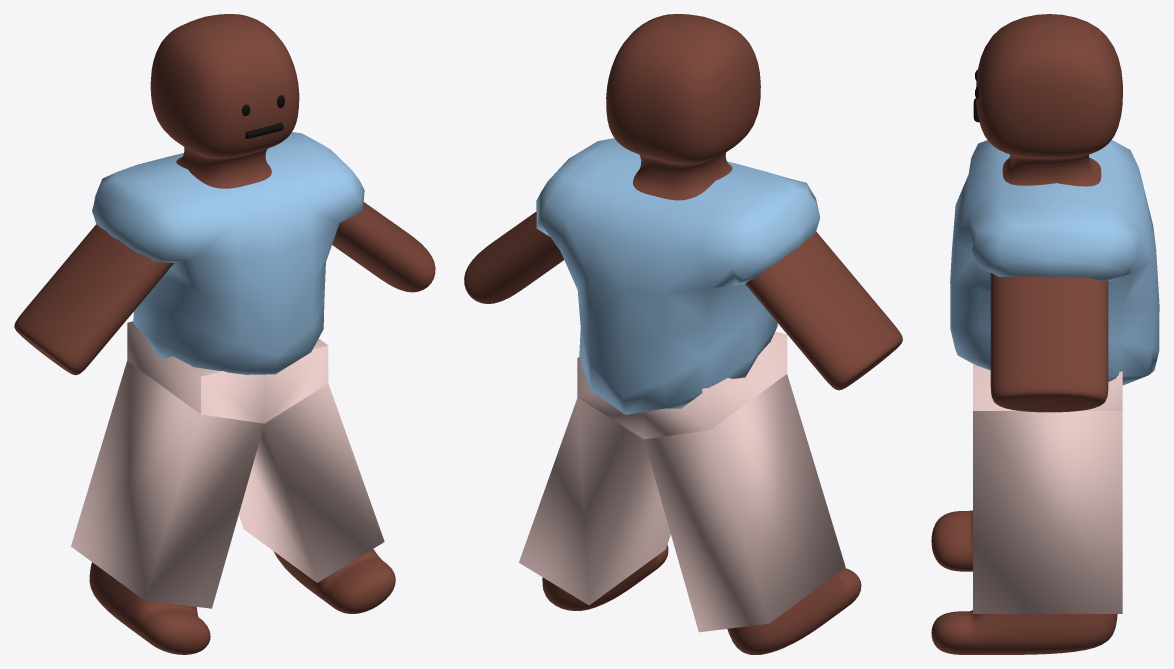
Rendered from npc1.fbx.
3 views of the same model, side by side, from view 1: azimuth 30°, elevation 25°; view 2: azimuth 150°, elevation 25°; view 3: azimuth 270°, elevation 25° (orthographic). The views are drawn at different scales.
Visible parts, largest first — view 1: Cube.002, Cube, Cube.001; view 2: Cube.002, Cube.001, Cube; view 3: Cube, Cube.002, Cube.001.
Part boxes in pixels (box(x1,y1,x2,y2)): Cube.002: box(71, 321, 384, 608); Cube: box(14, 14, 435, 654); Cube.001: box(92, 132, 364, 374); Cube.002: box(519, 331, 845, 632); Cube.001: box(536, 138, 820, 414); Cube: box(464, 14, 902, 654); Cube: box(931, 14, 1122, 654); Cube.002: box(973, 363, 1122, 613); Cube.001: box(950, 140, 1159, 385).
Size of the model in its own units: 612 by 867 by 306.
